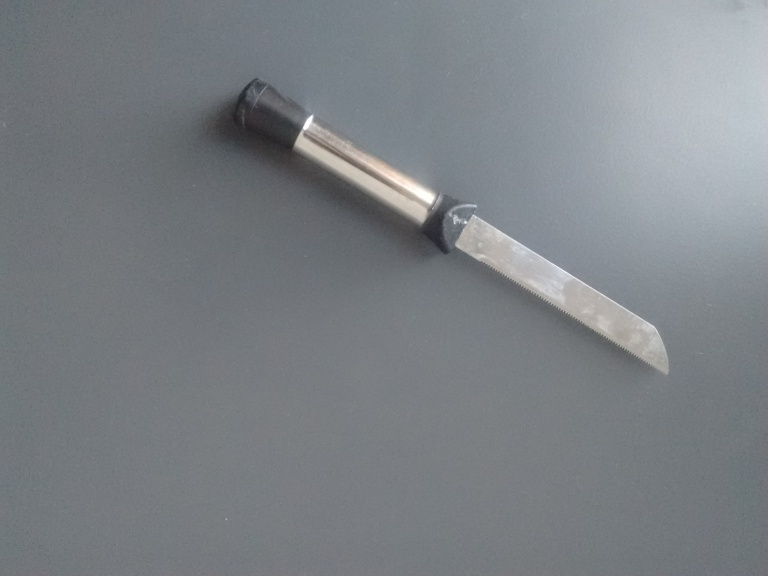knife: (234, 78, 671, 375)
